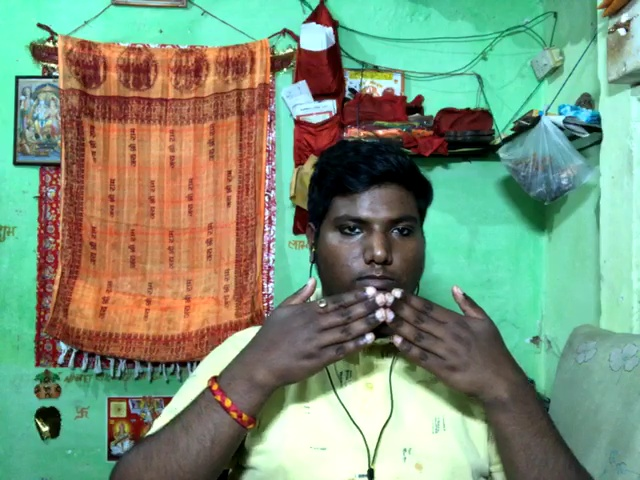Thanks: (205, 265, 556, 426)
